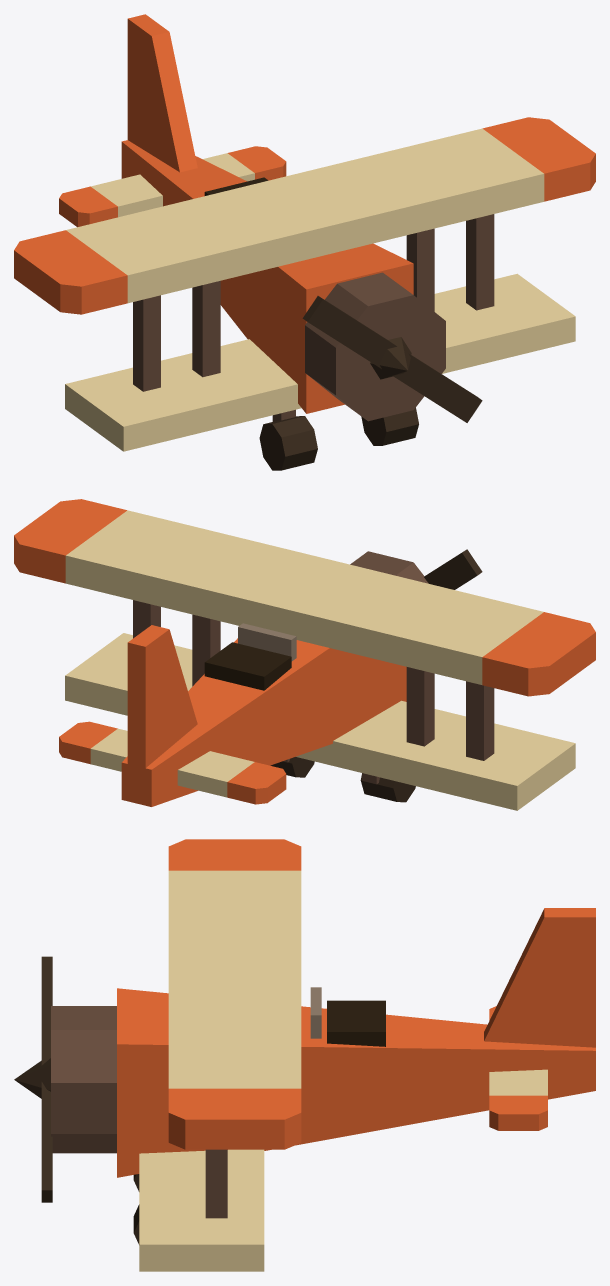
3 renders of one model, top to bottom at view 1: azimuth 30°, elevation 25°; view 2: azimuth 150°, elevation 25°; view 3: azimuth 270°, elevation 25°, orthographic. The views are drawn at different scales.
Parts seen in each view (by area): view 1: Plane, Prop; view 2: Plane, Prop; view 3: Plane, Prop.
Part boxes in pixels (<box>): Plane: <box>14,14,595,470</box>; Prop: <box>302,296,482,422</box>; Plane: <box>14,499,595,810</box>; Prop: <box>424,549,482,589</box>; Plane: <box>14,839,595,1271</box>; Prop: <box>41,956,52,1202</box>.
Bounding box in the file's own units: 1.8 × 0.93 × 1.58.
